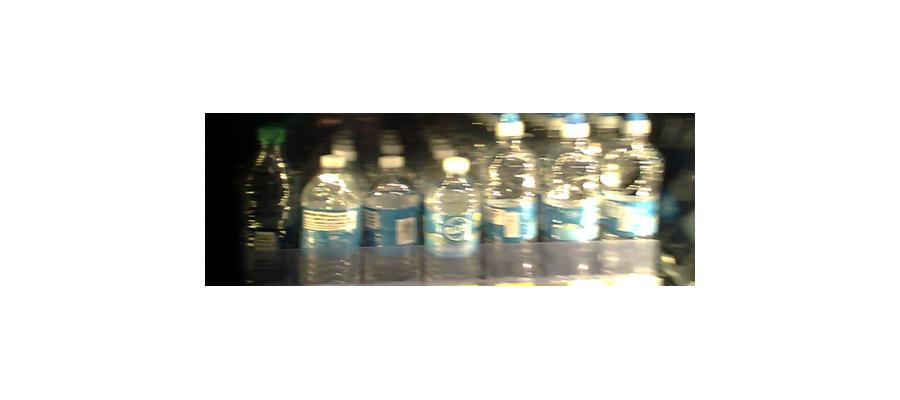bottle: (601, 116, 662, 281), (236, 119, 295, 280), (541, 120, 600, 279), (482, 120, 540, 281), (298, 162, 358, 283), (423, 153, 480, 278), (360, 162, 418, 279)
